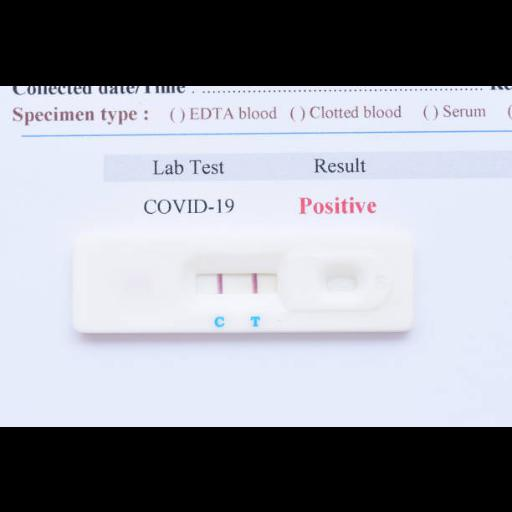Pos: (74, 232, 414, 330)
